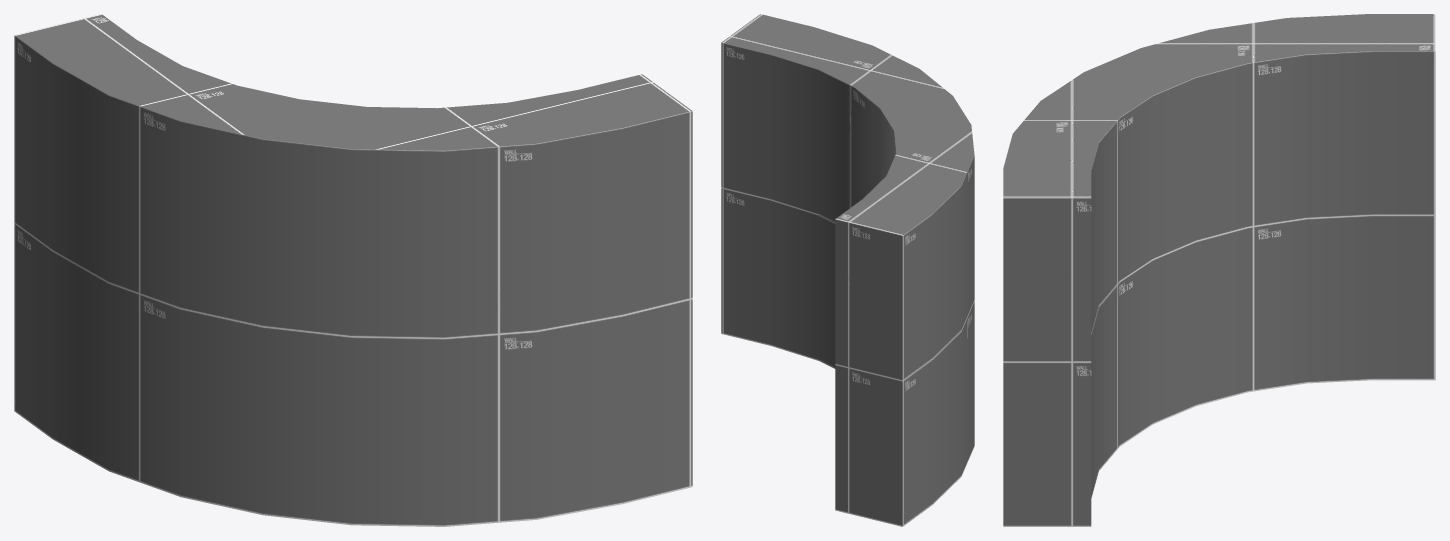
File: WallRounded.fbx
The picture shows the model from 3 angles, left to right: view 1: azimuth 30°, elevation 25°; view 2: azimuth 150°, elevation 25°; view 3: azimuth 270°, elevation 25°; orthographic projection. The views are drawn at different scales.
Parts seen in each view (by area): view 1: WallRounded; view 2: WallRounded; view 3: WallRounded.
Part boxes in pixels (x1,y1,x2,y2): WallRounded: (14,14,692,526); WallRounded: (721,14,974,526); WallRounded: (1003,14,1435,526).
Bounding box in the file's own units: 6.15 × 5.13 × 6.11.
